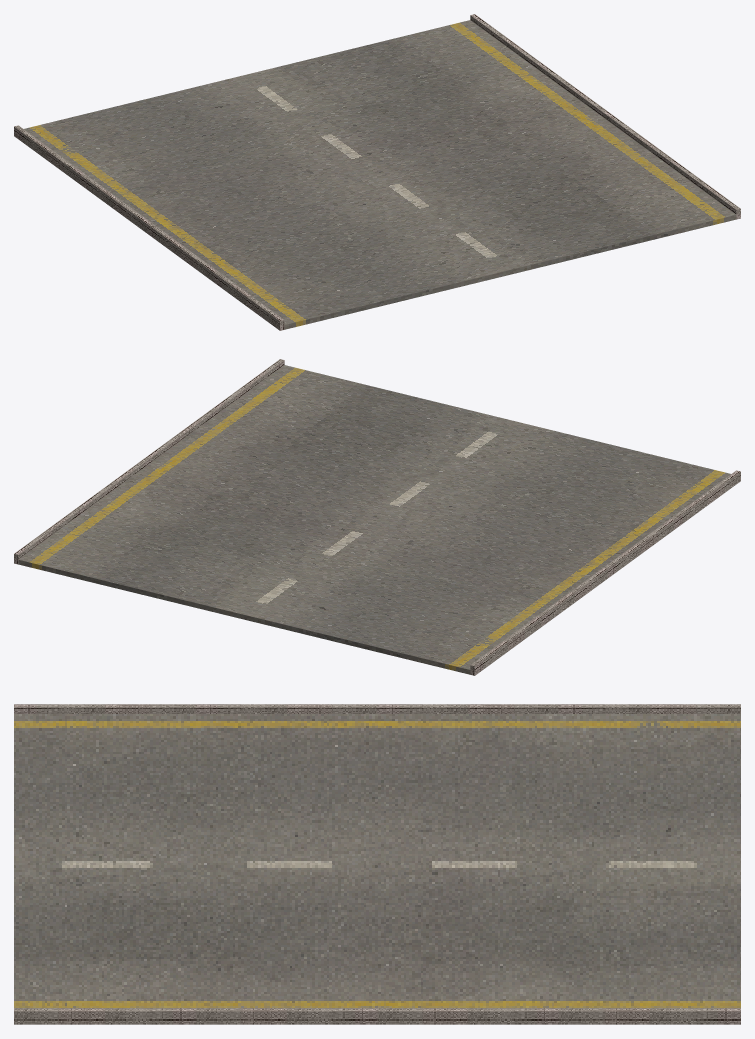
File: road_1_straight_no_sides.glb
The picture shows the model from 3 angles, top to bottom: view 1: azimuth 30°, elevation 25°; view 2: azimuth 150°, elevation 25°; view 3: azimuth 270°, elevation 25°; orthographic projection. The views are drawn at different scales.
Parts seen in each view (by area): view 1: road_1_straight_no_sides; view 2: road_1_straight_no_sides; view 3: road_1_straight_no_sides.
Part boxes in pixels (box(x1,y1,x2,y2)): road_1_straight_no_sides: box(14, 14, 740, 330); road_1_straight_no_sides: box(14, 359, 740, 675); road_1_straight_no_sides: box(14, 704, 740, 1024).
Bounding box in the file's own units: 16 × 0.32 × 16.
2 materials, 2 textured.
